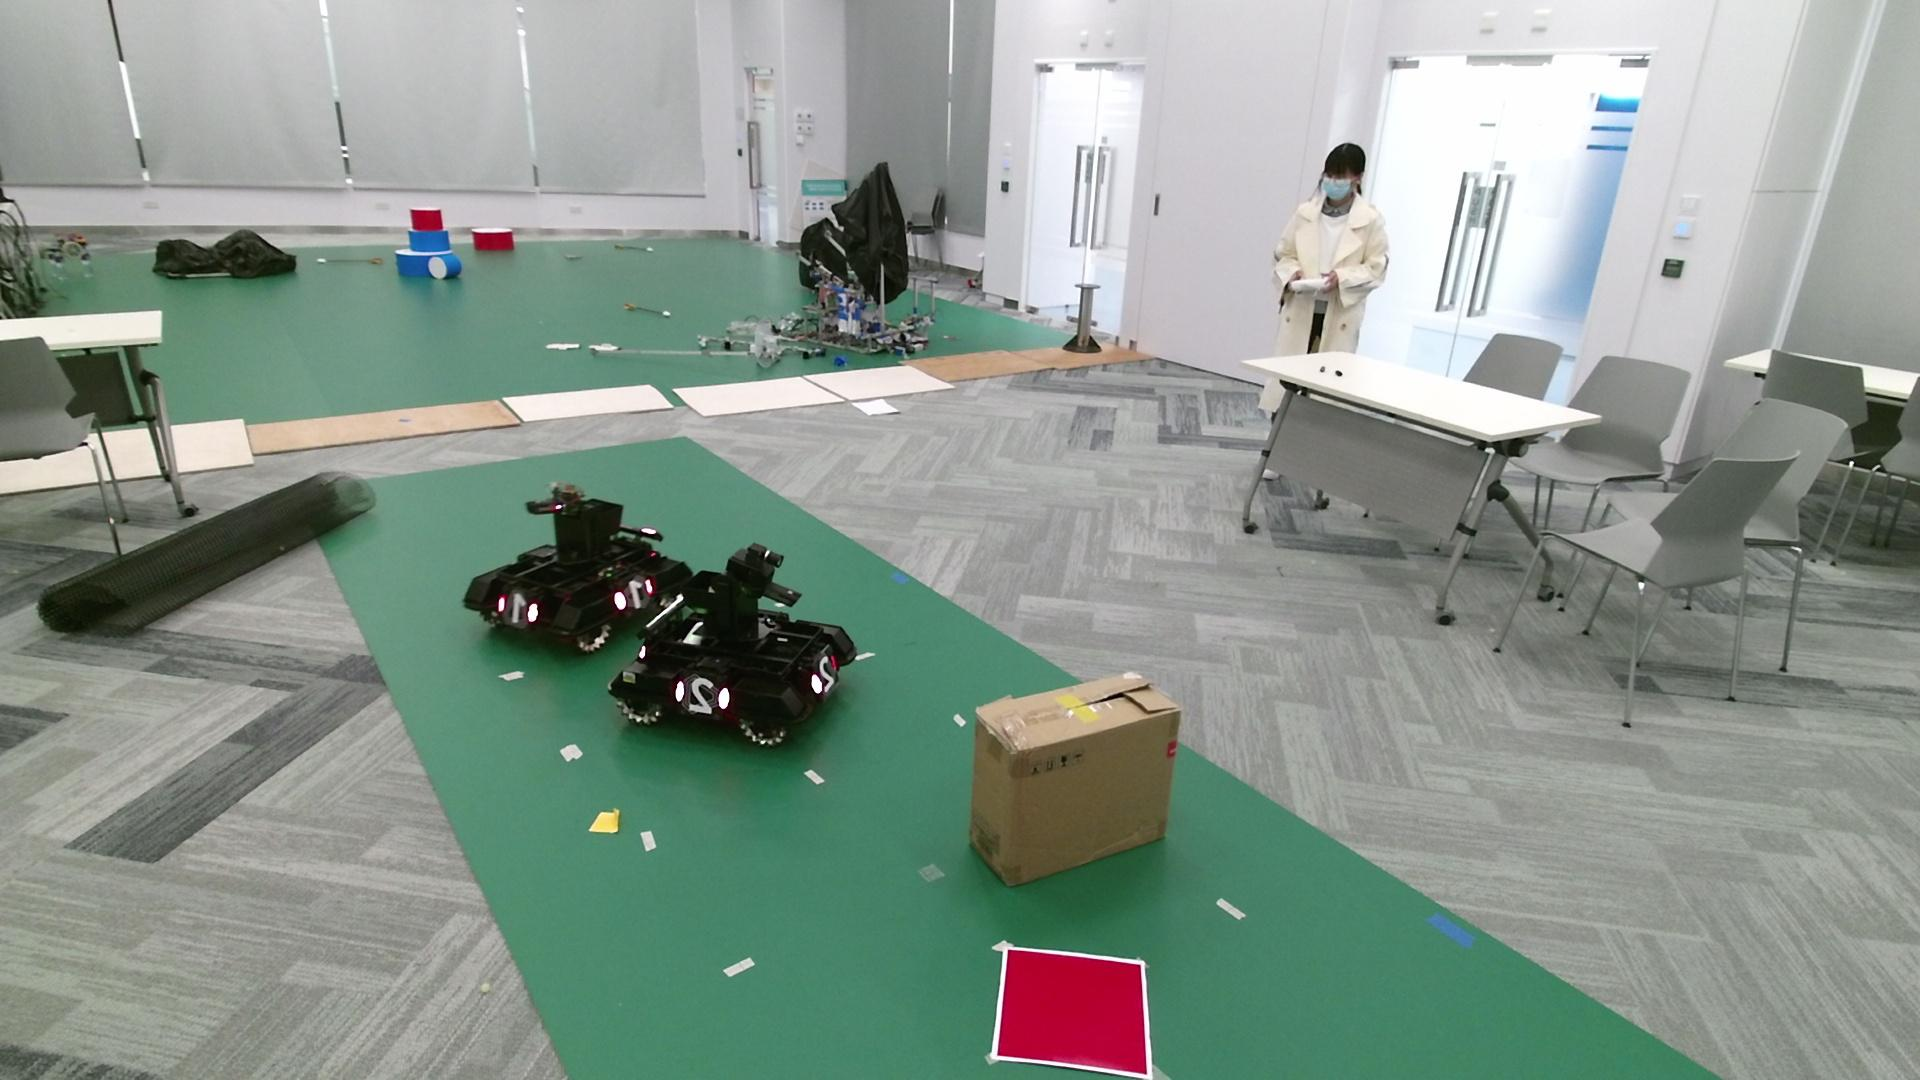robot: (611, 542, 857, 748), (462, 479, 694, 653)
